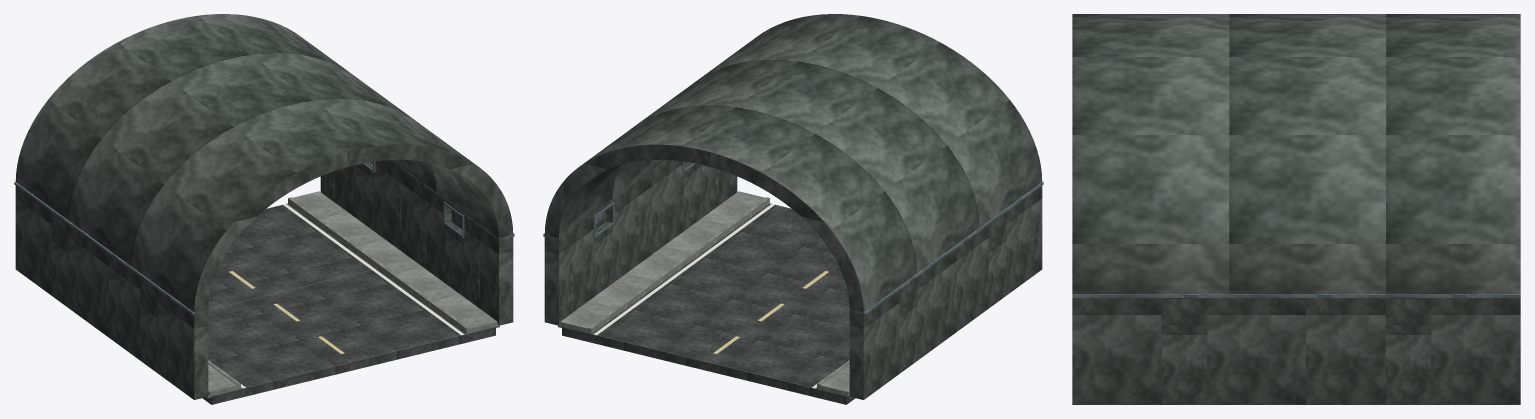
File: PZ_Tunnel_Lining_Damp_10M.glb
The picture shows the model from 3 angles, left to right: view 1: azimuth 30°, elevation 25°; view 2: azimuth 150°, elevation 25°; view 3: azimuth 270°, elevation 25°; orthographic projection. The views are drawn at different scales.
Visible parts, largest first — view 1: LINING_B_DAMP_10M_CrownArch_10M, LINING_B_DAMP_10M, LINING_B_DAMP_10M_RoadSlab_10M, LINING_B_DAMP_10M_RaisedWalk_RIGHT, LINING_B_DAMP_10M_CurbStrip_RIGHT, LINING_B_DAMP_10M_CableTrunk_LEFT, LINING_B_DAMP_10M_EdgeMark_R, LINING_B_DAMP_10M_RaisedWalk_LEFT; view 2: LINING_B_DAMP_10M_CrownArch_10M, LINING_B_DAMP_10M, LINING_B_DAMP_10M_RoadSlab_10M, LINING_B_DAMP_10M_RaisedWalk_RIGHT, LINING_B_DAMP_10M_CurbStrip_RIGHT, LINING_B_DAMP_10M_CableTrunk_LEFT, LINING_B_DAMP_10M_EdgeMark_R, LINING_B_DAMP_10M_RaisedWalk_LEFT; view 3: LINING_B_DAMP_10M_CrownArch_10M, LINING_B_DAMP_10M, LINING_B_DAMP_10M_CableTrunk_RIGHT, LINING_B_DAMP_10M_RoadSlab_10M.
Boxes of the visible parts, <box> form: LINING_B_DAMP_10M_CrownArch_10M: <box>15,14,513,312</box>; LINING_B_DAMP_10M: <box>15,160,513,399</box>; LINING_B_DAMP_10M_RoadSlab_10M: <box>202,204,495,404</box>; LINING_B_DAMP_10M_RaisedWalk_RIGHT: <box>292,191,497,332</box>; LINING_B_DAMP_10M_CurbStrip_RIGHT: <box>288,197,469,334</box>; LINING_B_DAMP_10M_CableTrunk_LEFT: <box>14,182,204,314</box>; LINING_B_DAMP_10M_EdgeMark_R: <box>283,204,464,335</box>; LINING_B_DAMP_10M_RaisedWalk_LEFT: <box>208,364,237,396</box>; LINING_B_DAMP_10M_CrownArch_10M: <box>544,14,1042,312</box>; LINING_B_DAMP_10M: <box>544,160,1042,399</box>; LINING_B_DAMP_10M_RoadSlab_10M: <box>562,204,855,404</box>; LINING_B_DAMP_10M_RaisedWalk_RIGHT: <box>560,191,765,332</box>; LINING_B_DAMP_10M_CurbStrip_RIGHT: <box>588,197,769,334</box>; LINING_B_DAMP_10M_CableTrunk_LEFT: <box>850,182,1043,314</box>; LINING_B_DAMP_10M_EdgeMark_R: <box>593,204,774,335</box>; LINING_B_DAMP_10M_RaisedWalk_LEFT: <box>820,364,849,396</box>; LINING_B_DAMP_10M_CrownArch_10M: <box>1072,14,1520,294</box>; LINING_B_DAMP_10M: <box>1072,298,1520,404</box>; LINING_B_DAMP_10M_CableTrunk_RIGHT: <box>1072,294,1520,297</box>; LINING_B_DAMP_10M_RoadSlab_10M: <box>1072,404,1520,404</box>.
Bounding box in the file's own units: 10.42 × 6.79 × 10.
Materials: 8 (5 with a texture image).
